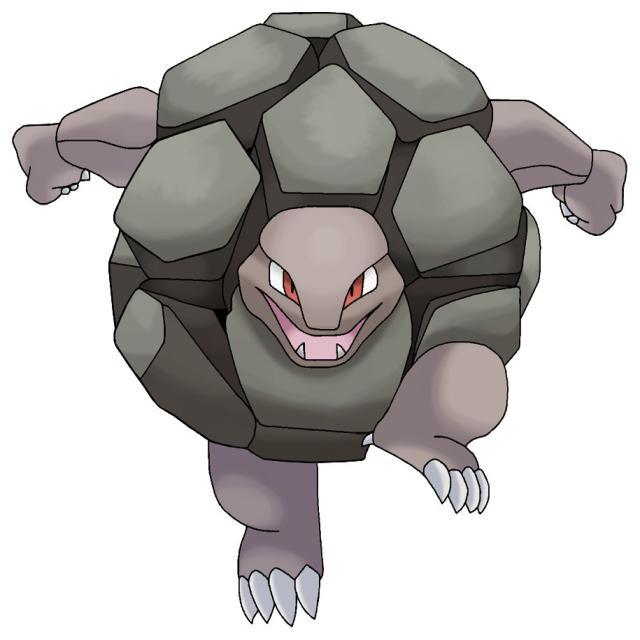Golem: (82, 9, 565, 461)
